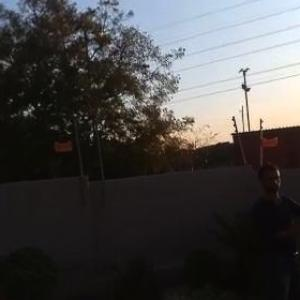follow: (248, 158, 300, 299)
